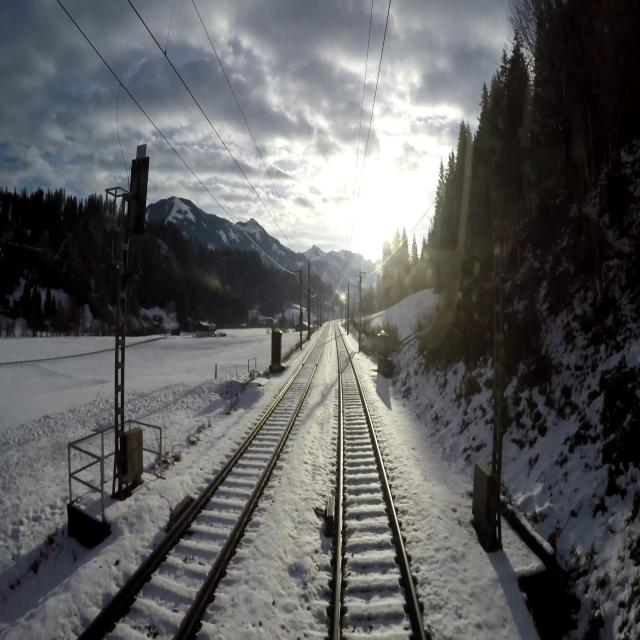rail-track: (82, 328, 325, 639), (336, 325, 421, 639)
